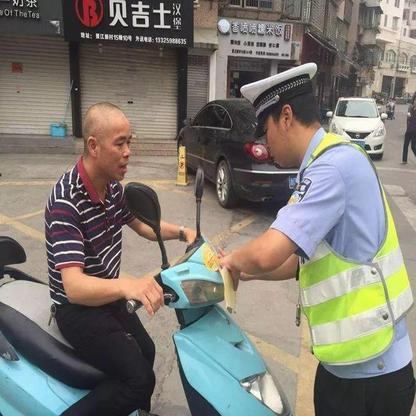target: (2, 103, 293, 414)
